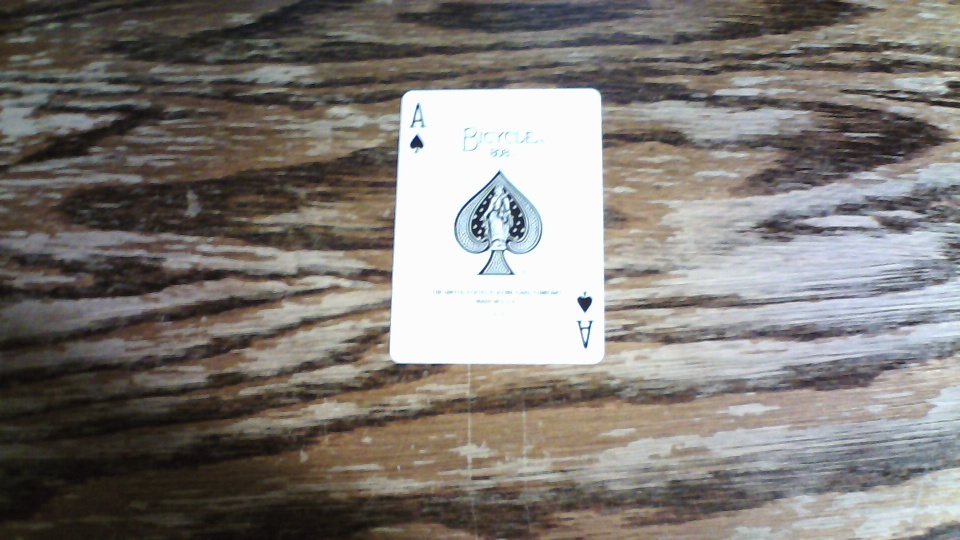ace: (390, 86, 605, 365)
